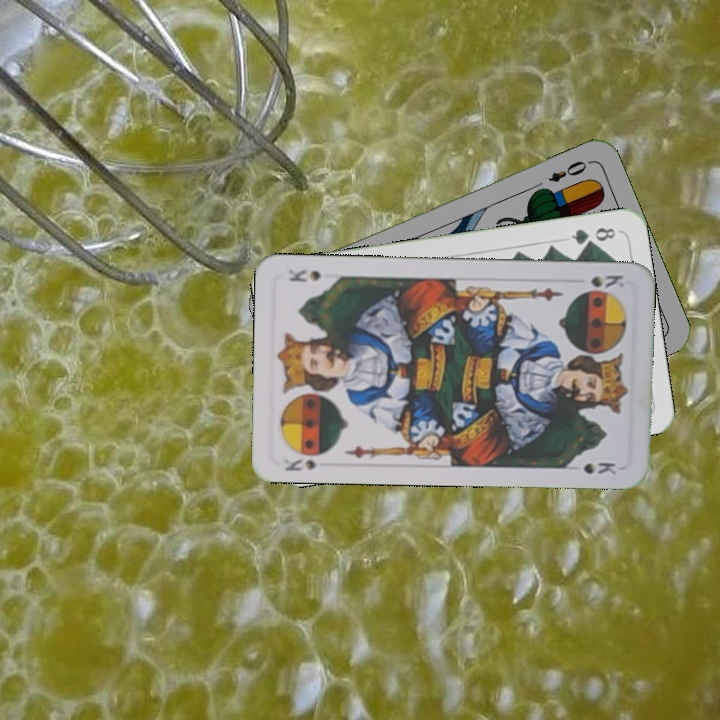EO: (544, 156, 594, 185)
G8: (567, 223, 618, 248)
SK: (587, 271, 627, 291), (280, 454, 319, 474)
